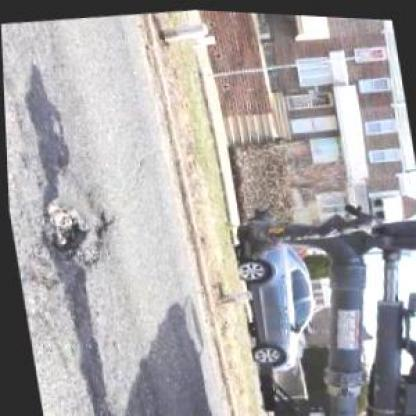pothole: (28, 183, 118, 277)
